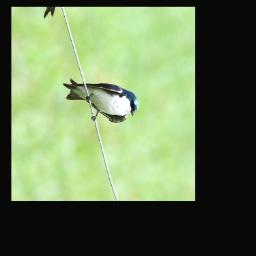Swallow: (60, 54, 142, 141)
